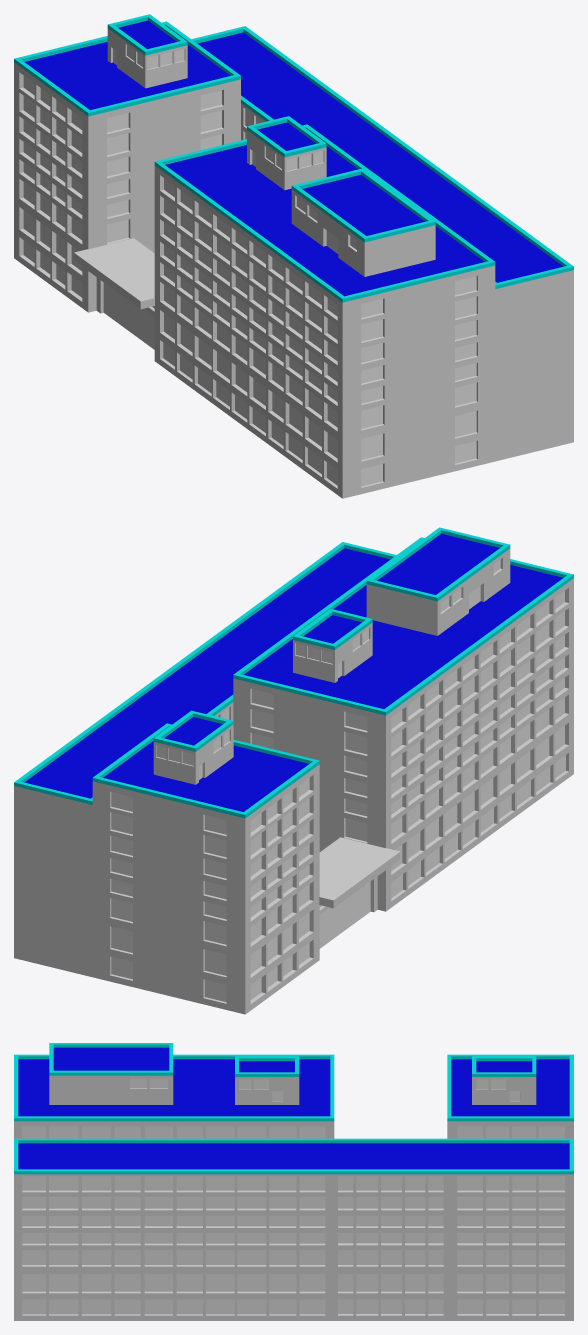
File: JianZhu04.fbx
3 renders of one model, top to bottom at view 1: azimuth 30°, elevation 25°; view 2: azimuth 150°, elevation 25°; view 3: azimuth 270°, elevation 25°, orthographic. The views are drawn at different scales.
Parts seen in each view (by area): view 1: polySurface1895, polySurface1954, JianZhu04, polySurface1948, polySurface1900; view 2: polySurface1895, polySurface1954, JianZhu04, polySurface1948, polySurface1900; view 3: JianZhu04, polySurface1895, polySurface1954, polySurface1948, polySurface1900.
Part boxes in pixels (left/top/right/bottom): polySurface1895: left=14, top=62, right=573, bottom=498; polySurface1954: left=24, top=20, right=562, bottom=296; JianZhu04: left=23, top=45, right=476, bottom=486; polySurface1948: left=14, top=14, right=573, bottom=302; polySurface1900: left=107, top=28, right=435, bottom=276; polySurface1895: left=14, top=578, right=573, bottom=1014; polySurface1954: left=24, top=533, right=562, bottom=811; JianZhu04: left=111, top=559, right=565, bottom=1002; polySurface1948: left=14, top=527, right=573, bottom=818; polySurface1900: left=153, top=548, right=510, bottom=784; JianZhu04: left=22, top=1078, right=564, bottom=1314; polySurface1895: left=14, top=1121, right=573, bottom=1320; polySurface1954: left=18, top=1047, right=569, bottom=1169; polySurface1948: left=14, top=1043, right=573, bottom=1174; polySurface1900: left=49, top=1075, right=536, bottom=1104.
Bounding box in the file's own units: 115 × 105 × 267.
